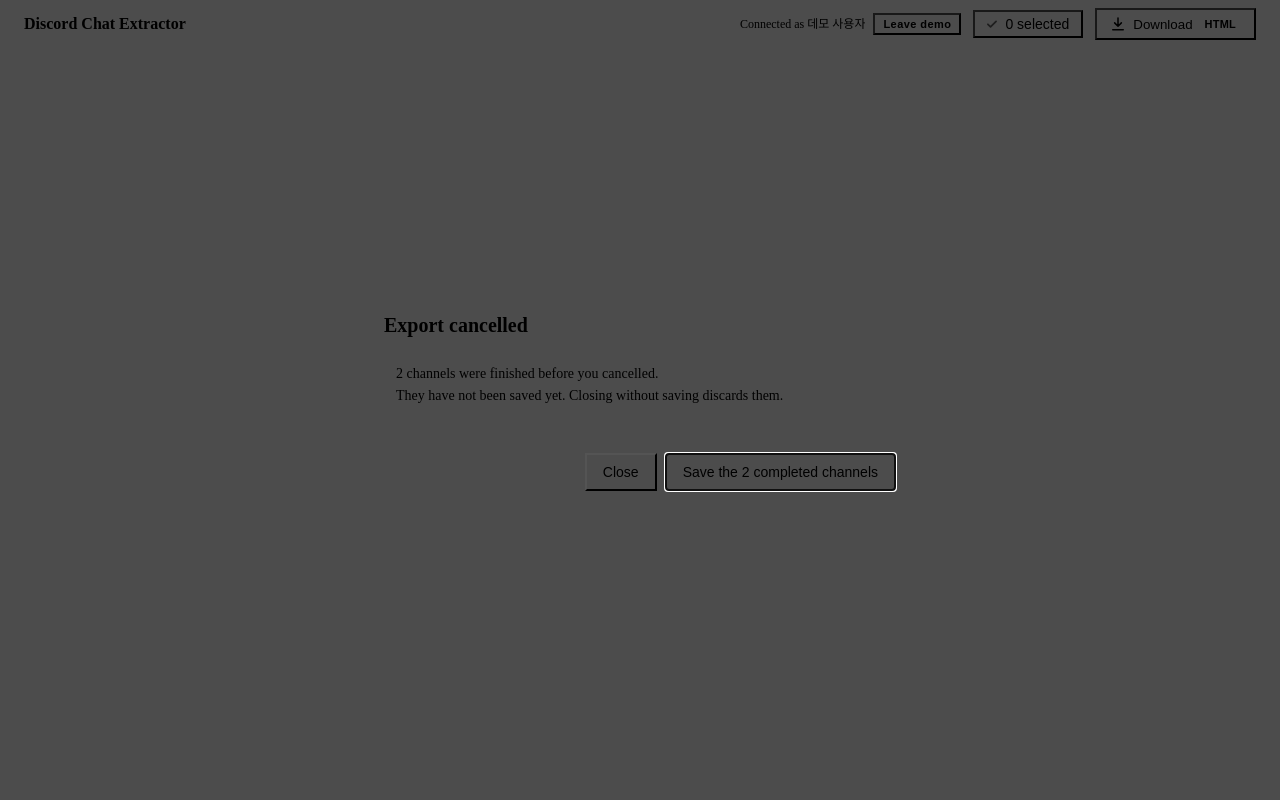
Test: finished: cancelled › the save button hands the file to the browser once, then the dialog confirms and offers only Close
Click the button "Save the 2 completed channels" at (780, 472), box left=665, top=453, right=896, bottom=491
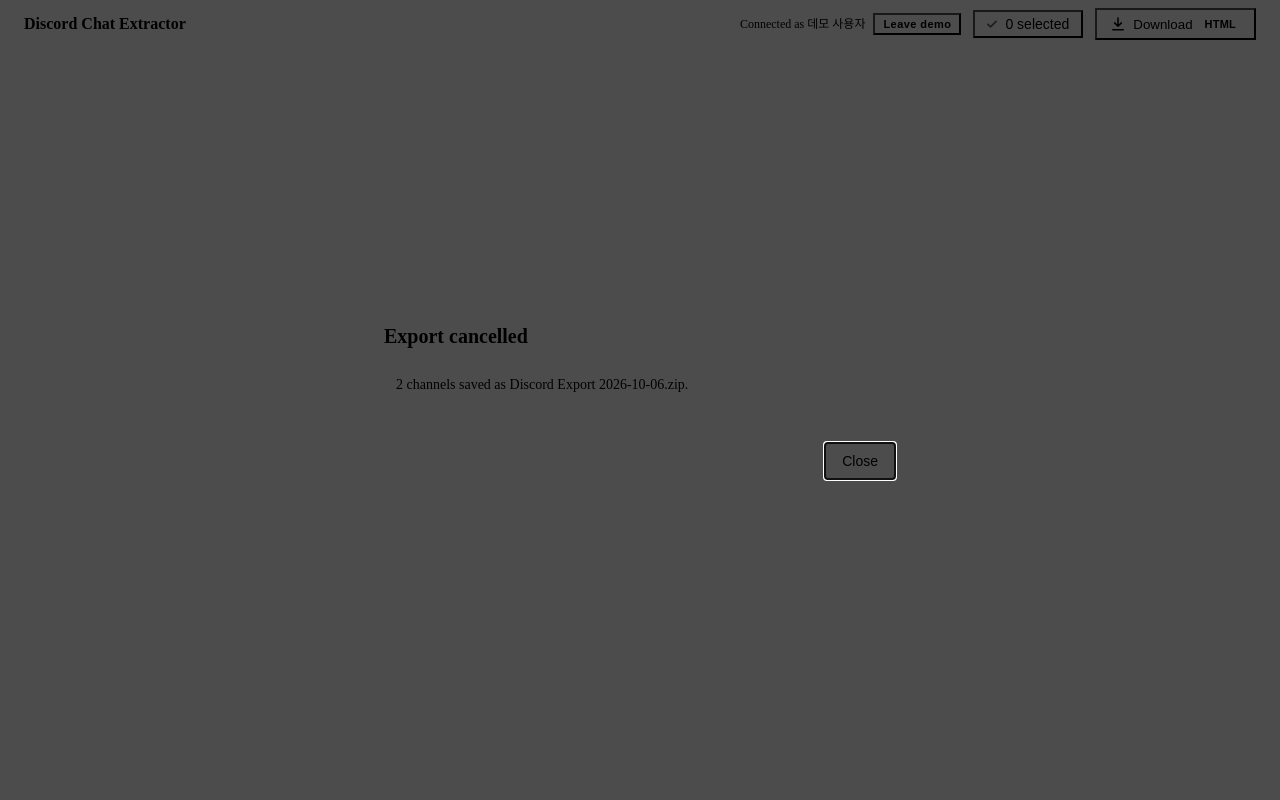
Expected: the text "2 channels saved as Discord Export 2026-10-06.zip." is shown, left=396, top=376, right=688, bottom=394
Expected: the buttons read "Close", in this order, left=824, top=442, right=896, bottom=480
